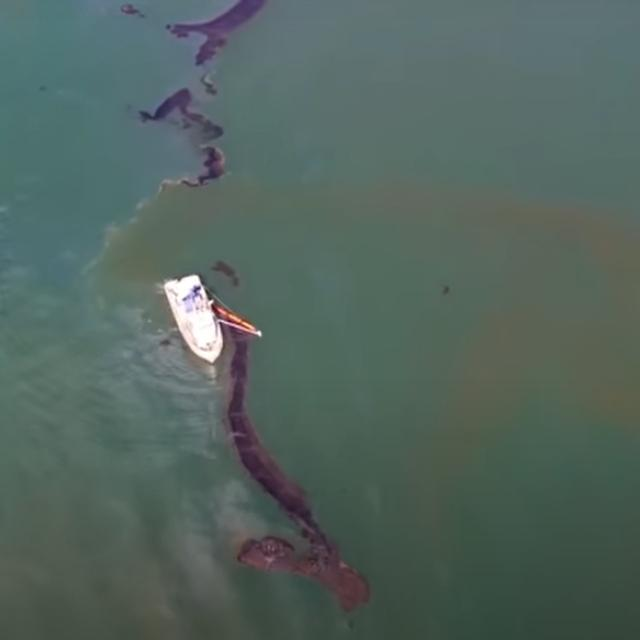truecolor: (211, 296, 370, 612), (139, 87, 225, 188), (168, 0, 267, 64), (201, 74, 216, 94)
